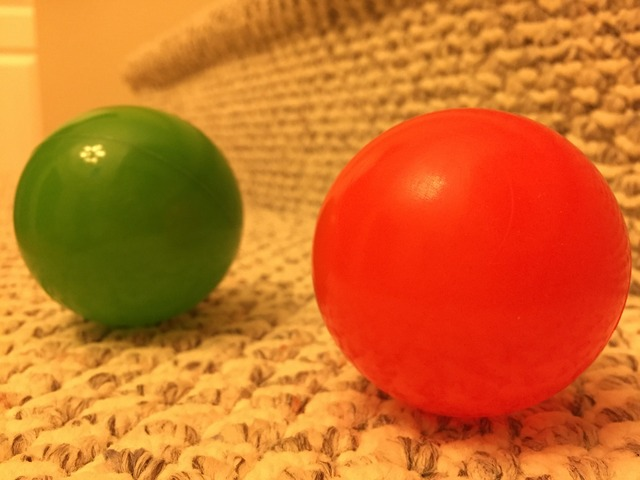Ball: (311, 106, 629, 417)
